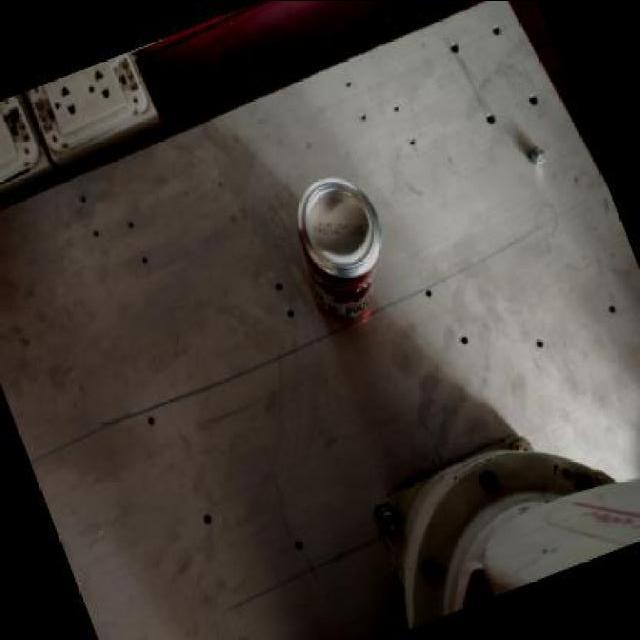can: (272, 152, 421, 340)
